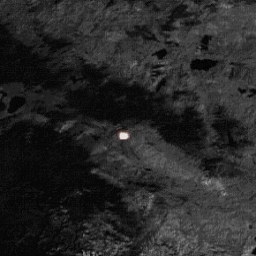Target: (118, 131, 131, 141)
